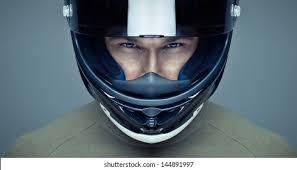helmet: (51, 0, 255, 147)
